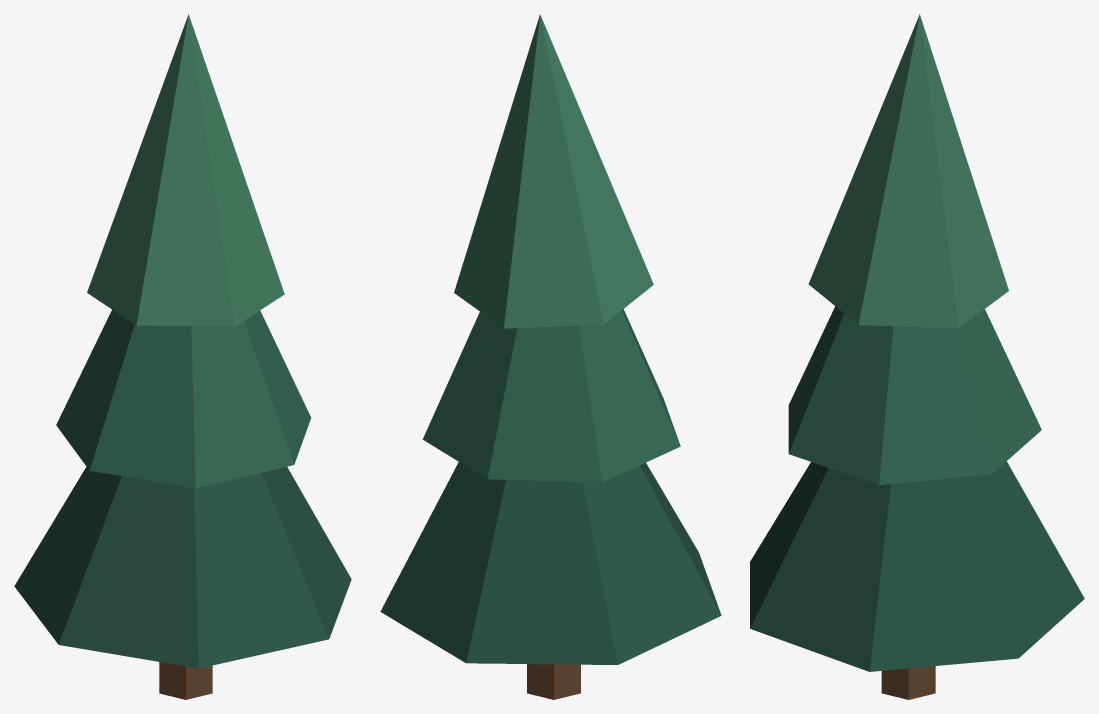
The model's file is tree_conifer_a.glb.
3 views of the same model, side by side, from view 1: azimuth 30°, elevation 25°; view 2: azimuth 150°, elevation 25°; view 3: azimuth 270°, elevation 25° (orthographic).
Visible parts, largest first — view 1: tree_conifer_a; view 2: tree_conifer_a; view 3: tree_conifer_a.
Boxes of the visible parts, x1,y1,x2,y2 form: tree_conifer_a: (14,14,351,699); tree_conifer_a: (380,14,721,699); tree_conifer_a: (750,14,1084,699).
Bounding box in the file's own units: 1.21 × 2.64 × 1.18.
